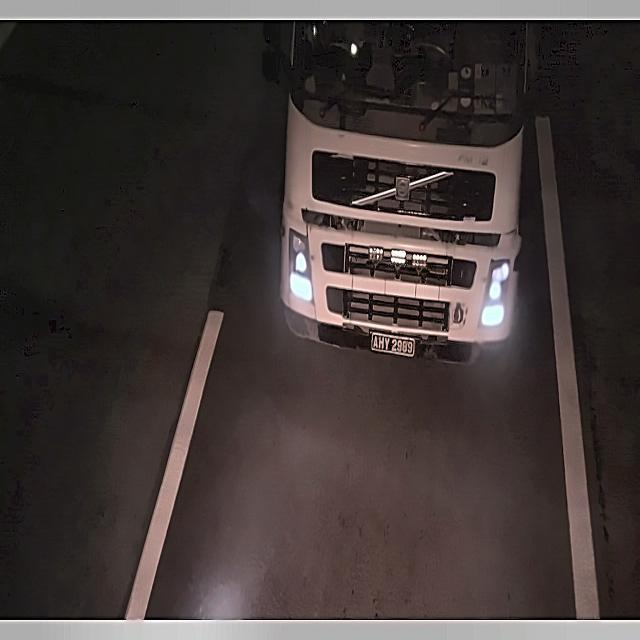car: (366, 327, 422, 363)
